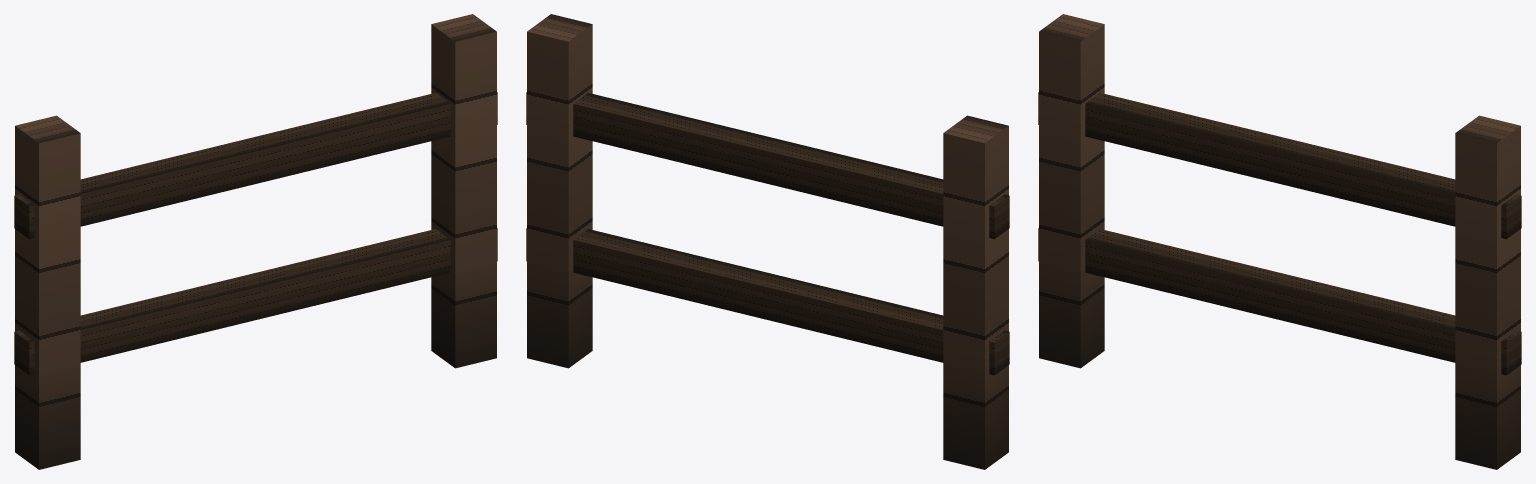
The model's file is fence.glb.
3 views of the same model, side by side, from view 1: azimuth 30°, elevation 25°; view 2: azimuth 150°, elevation 25°; view 3: azimuth 330°, elevation 25° (orthographic).
Parts seen in each view (by area): view 1: fence; view 2: fence; view 3: fence.
Part boxes in pixels (box(x1,y1,x2,y2)): fence: box(14, 14, 497, 469); fence: box(526, 14, 1009, 469); fence: box(1038, 14, 1521, 469).
Bounding box in the file's own units: 0.9 × 0.6 × 0.08.
Materials: 1 (1 with a texture image).
